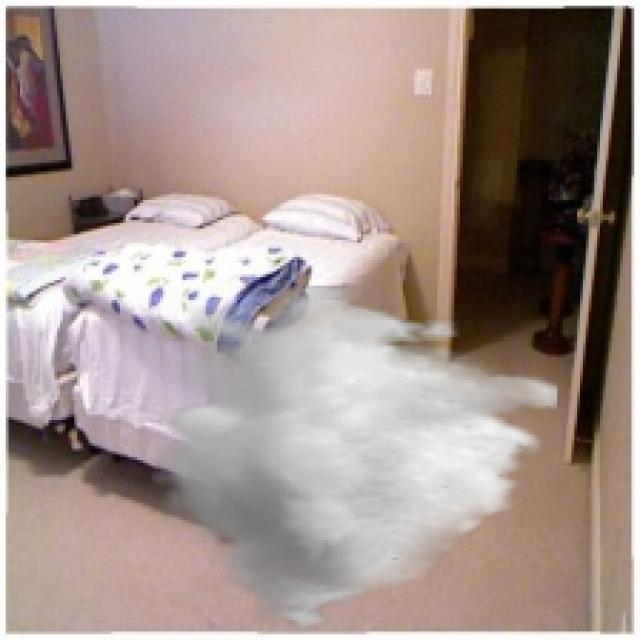smoke: (151, 286, 560, 637)
